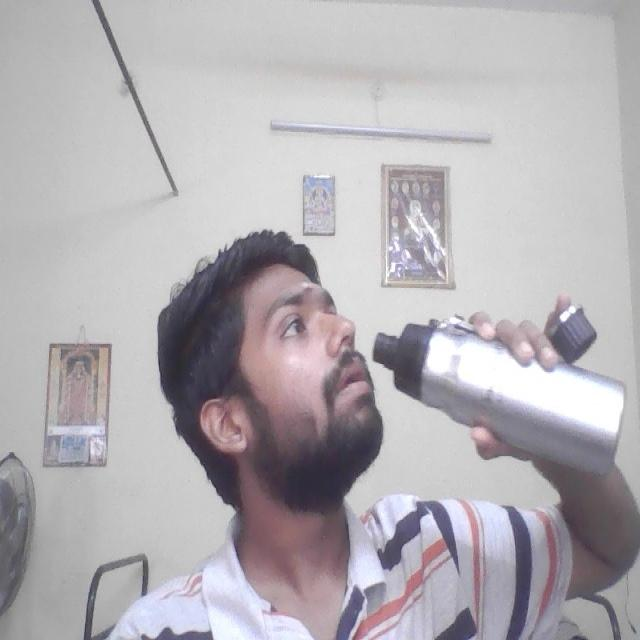Drinking: (374, 308, 631, 490)
